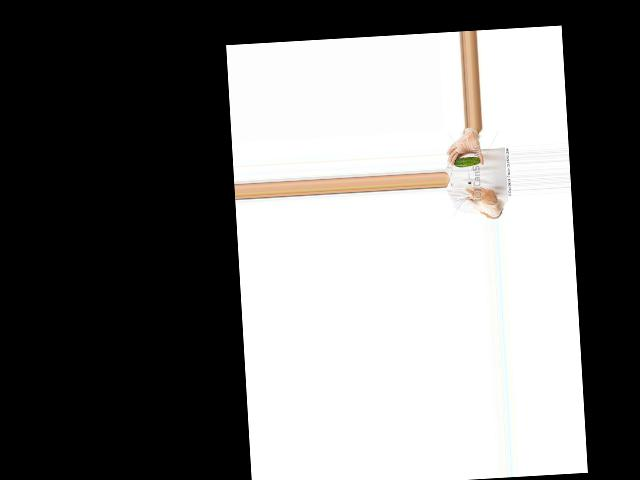cucumber: (453, 155, 480, 166)
